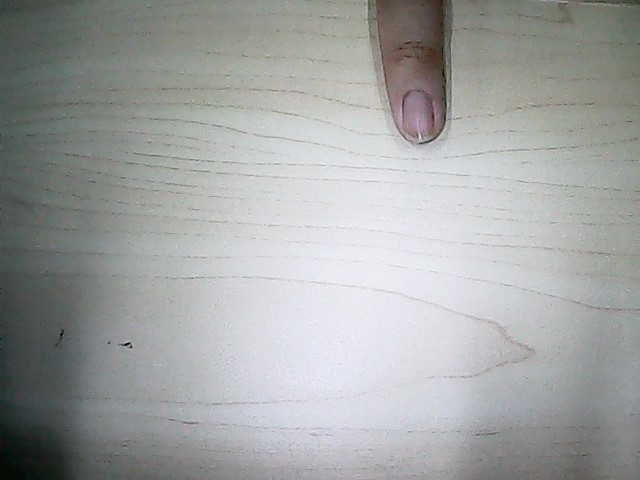nail: (404, 96, 434, 142)
